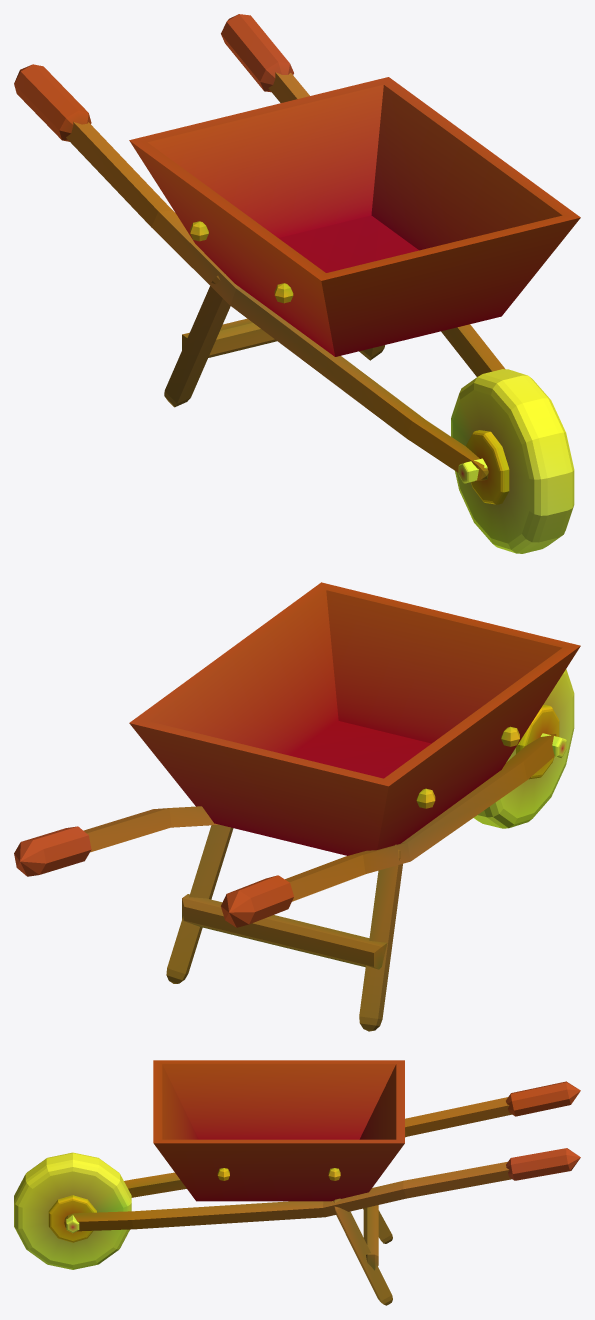
File: Farm_Wheelbarrow.fbx
3 renders of one model, top to bottom at view 1: azimuth 30°, elevation 25°; view 2: azimuth 150°, elevation 25°; view 3: azimuth 270°, elevation 25°, orthographic. The views are drawn at different scales.
Visible parts, largest first — view 1: Farm_Wheelbarrow; view 2: Farm_Wheelbarrow; view 3: Farm_Wheelbarrow.
Boxes of the visible parts, x1,y1,x2,y2 form: Farm_Wheelbarrow: (14, 14, 580, 553); Farm_Wheelbarrow: (14, 582, 580, 1031); Farm_Wheelbarrow: (14, 1060, 580, 1305).
Bounding box in the file's own units: 0.78 × 0.7556 × 2.25.
